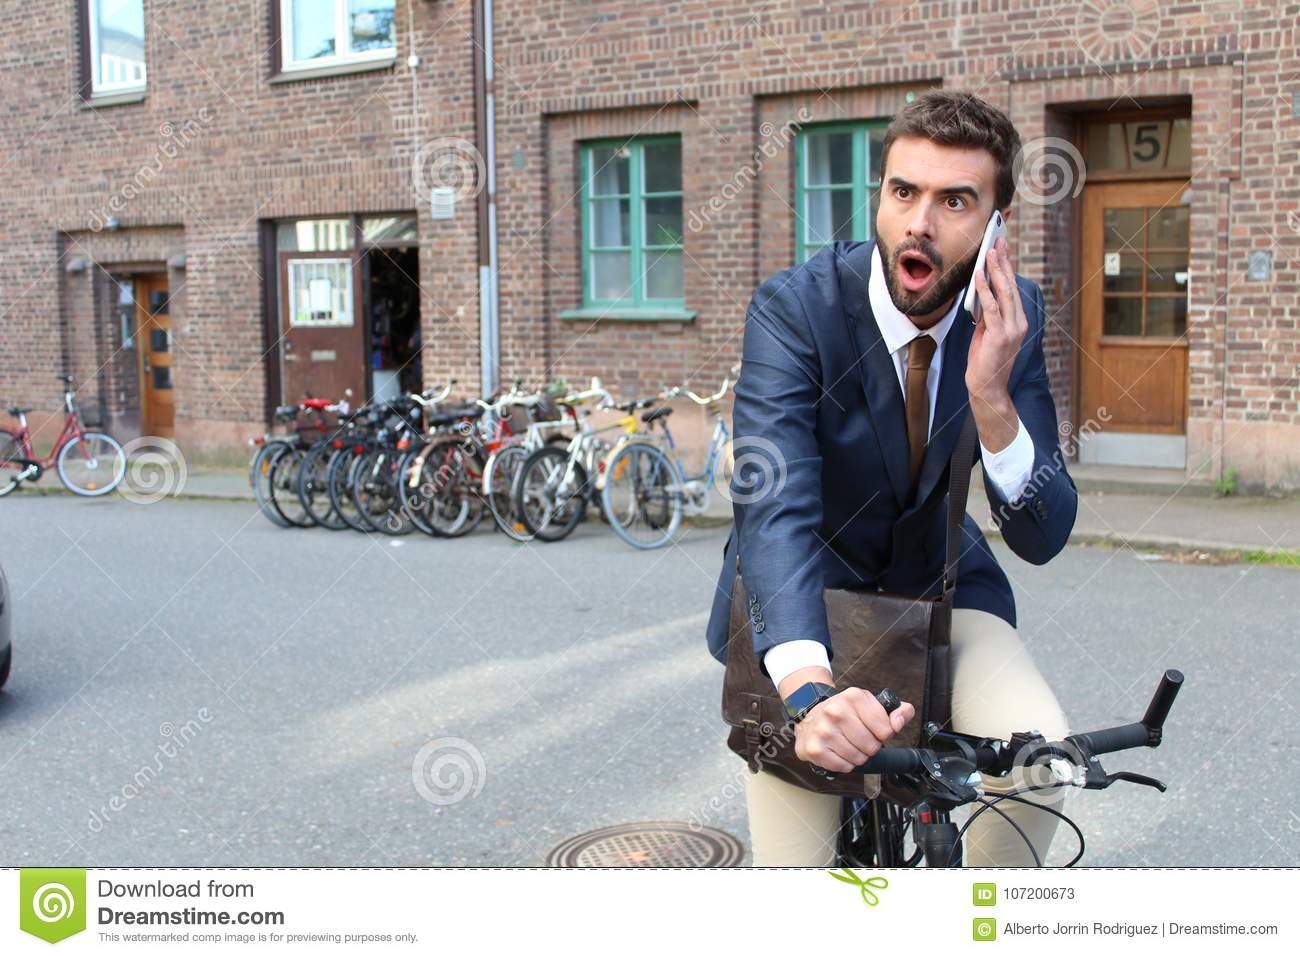phone: (964, 210, 1007, 336)
talk: (879, 171, 1027, 411)
